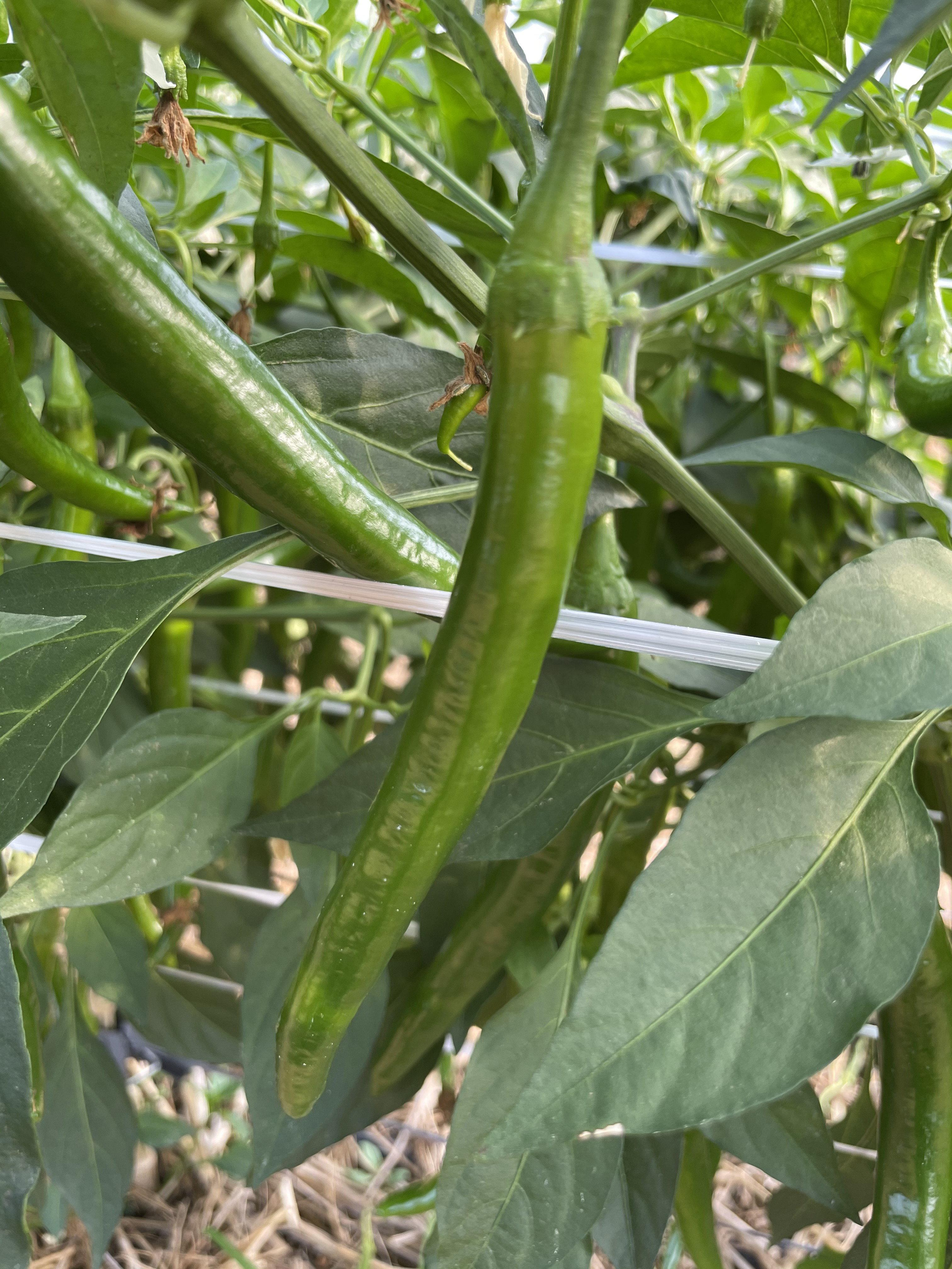Buah Cabai Sehat: (280, 221, 610, 1111), (0, 58, 459, 597)
Daun Cabai Sehat: (447, 700, 948, 1160), (0, 703, 276, 927), (684, 524, 952, 727)
